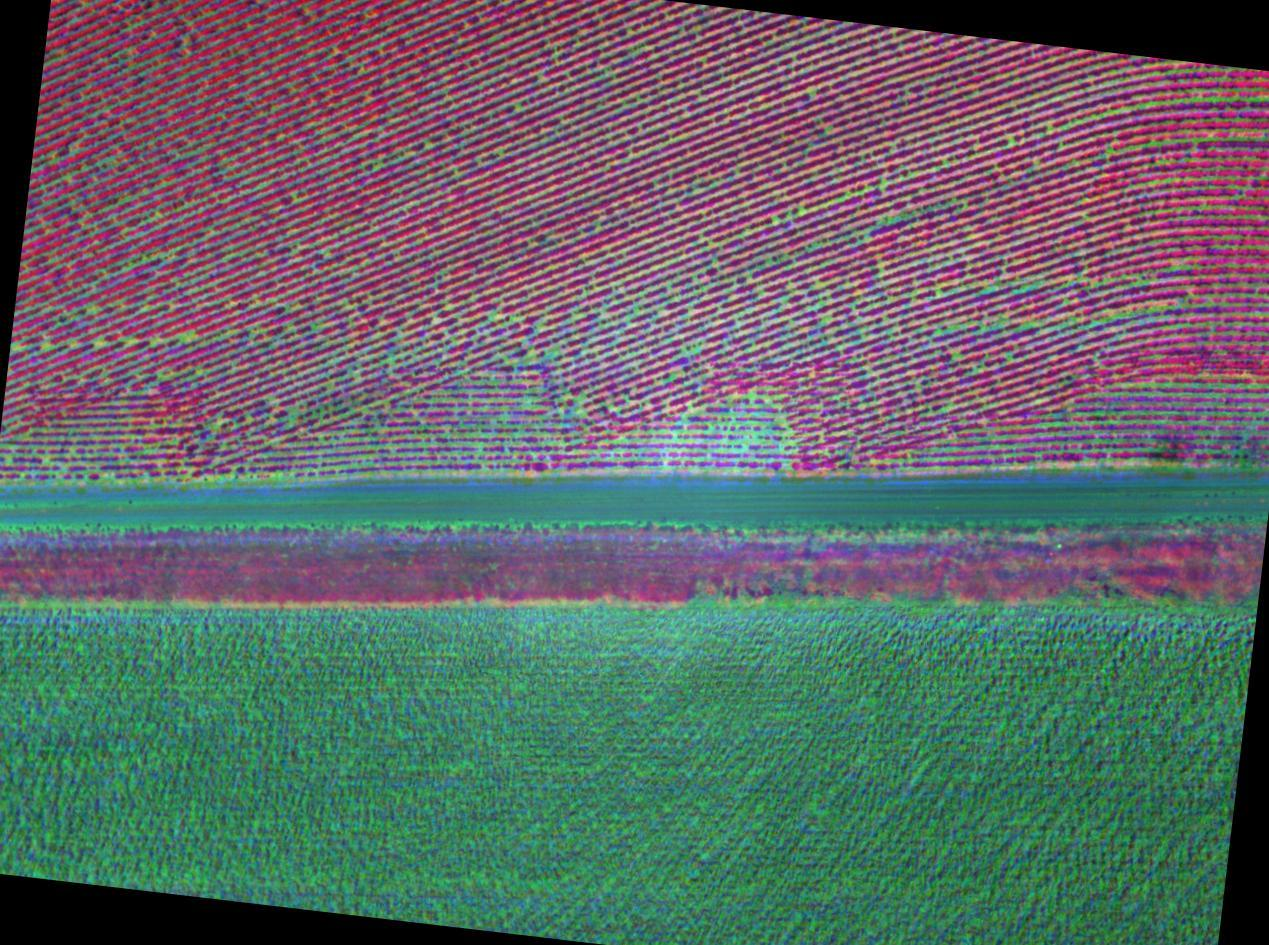dc: (523, 398, 530, 404), (180, 335, 186, 341), (749, 394, 755, 399), (213, 425, 219, 430), (523, 357, 528, 362)
